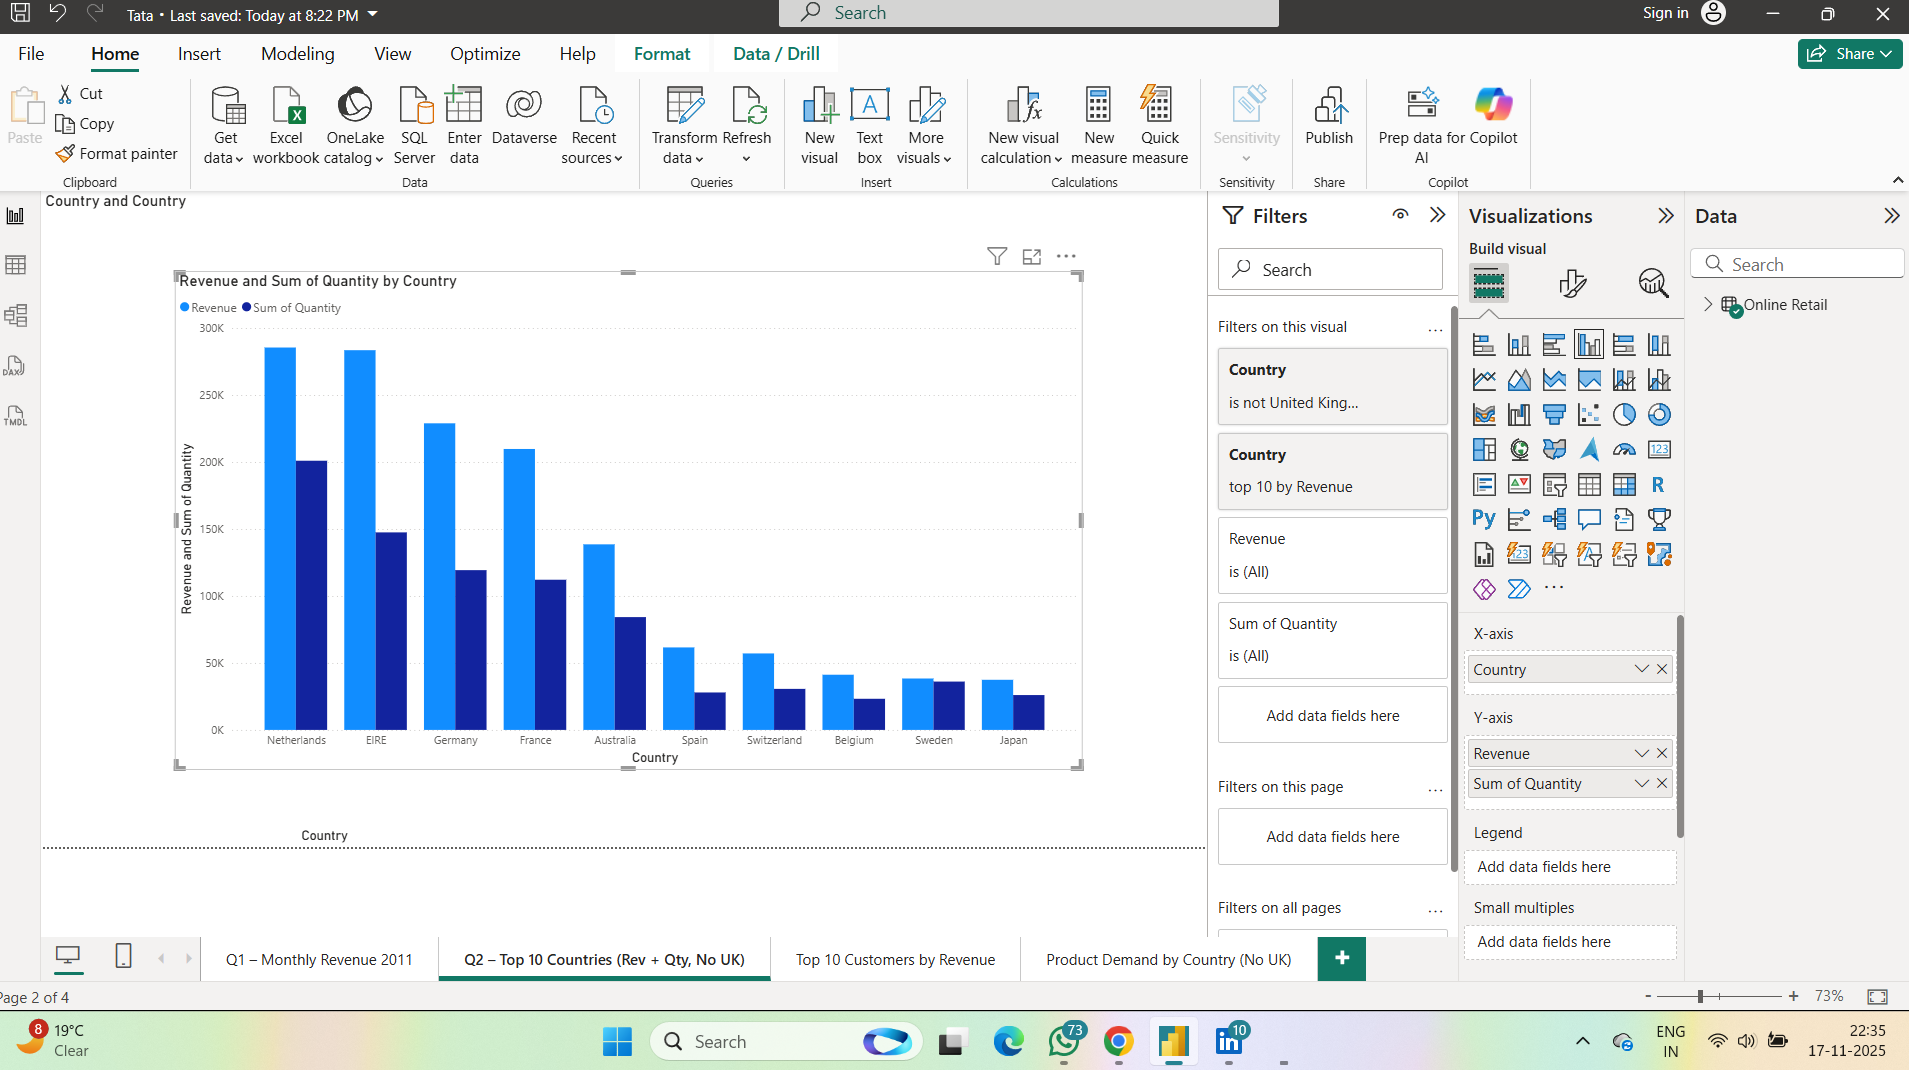

What the dashboard file says about the page in this screenshot:
{"tool":"powerbi","page":{"name":"Q2 – Top 10 Countries (Rev + Qty, No UK)","canvas":[1280,720],"ordinal":1},"visuals":[{"type":"clusteredColumnChart","fields":{"Category":["Online Retail.Country"],"Series":["Online Retail.Country"]},"box":[0,0,623,720.4],"z":0},{"type":"clusteredColumnChart","fields":{"Y":["Online Retail.Revenue","Sum(Online Retail.Quantity)"],"Category":["Online Retail.Country"]},"box":[146.8,87.8,996.2,547.5],"z":1000}]}

Visuals, with their boxes on the page's 1280x720 design canvas (x1, y1, x2, y2). These are canvas units, not pixel positions in the 1909x1070 screenshot, which may show the page scaled, cropped or inside an application window:
clusteredColumnChart - Online Retail.Country x Online Retail.Country: [0,0,623,720]
clusteredColumnChart - Online Retail.Revenue x Sum(Online Retail.Quantity): [147,88,1143,635]
